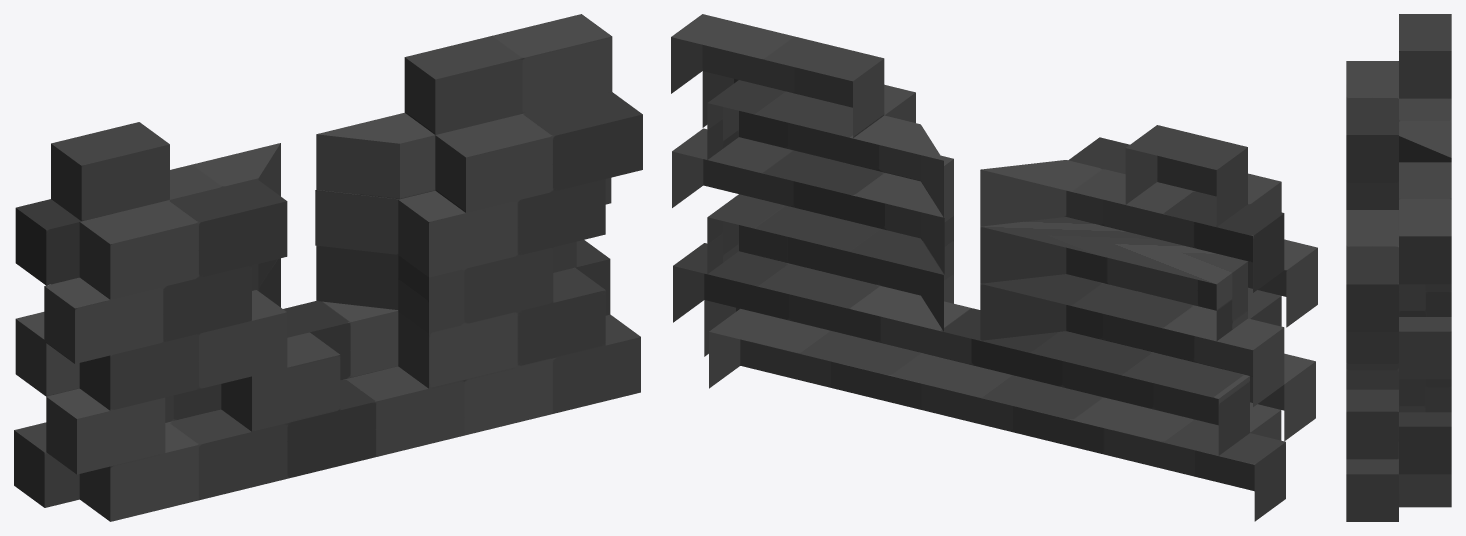
The model's file is Top Slot _ 2 Damaged.obj.
3 views of the same model, side by side, from view 1: azimuth 30°, elevation 25°; view 2: azimuth 150°, elevation 25°; view 3: azimuth 270°, elevation 25° (orthographic). The views are drawn at different scales.
Parts seen in each view (by area): view 1: Top_Slot_1_Chipped; view 2: Top_Slot_1_Chipped; view 3: Top_Slot_1_Chipped.
Boxes of the visible parts, <box> form: Top_Slot_1_Chipped: <box>14,14,642,521</box>; Top_Slot_1_Chipped: <box>671,14,1317,521</box>; Top_Slot_1_Chipped: <box>1346,14,1451,521</box>.
Size of the model in its own units: 1.61 by 0.9 by 0.3.
